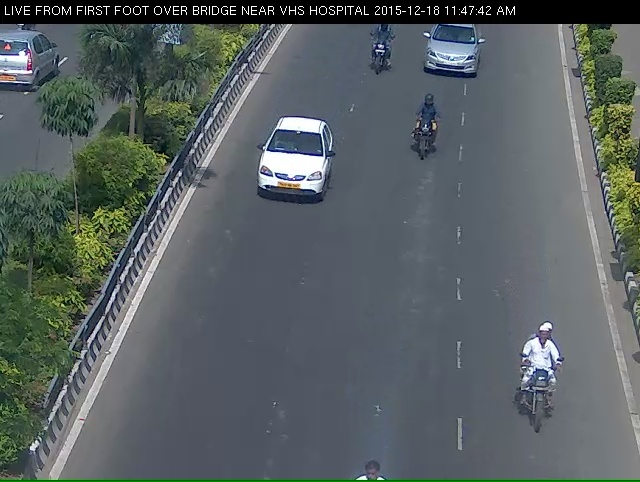Car: (243, 129, 332, 229), (421, 30, 481, 87)
Person: (506, 330, 566, 462), (403, 105, 442, 181), (361, 22, 391, 93)
